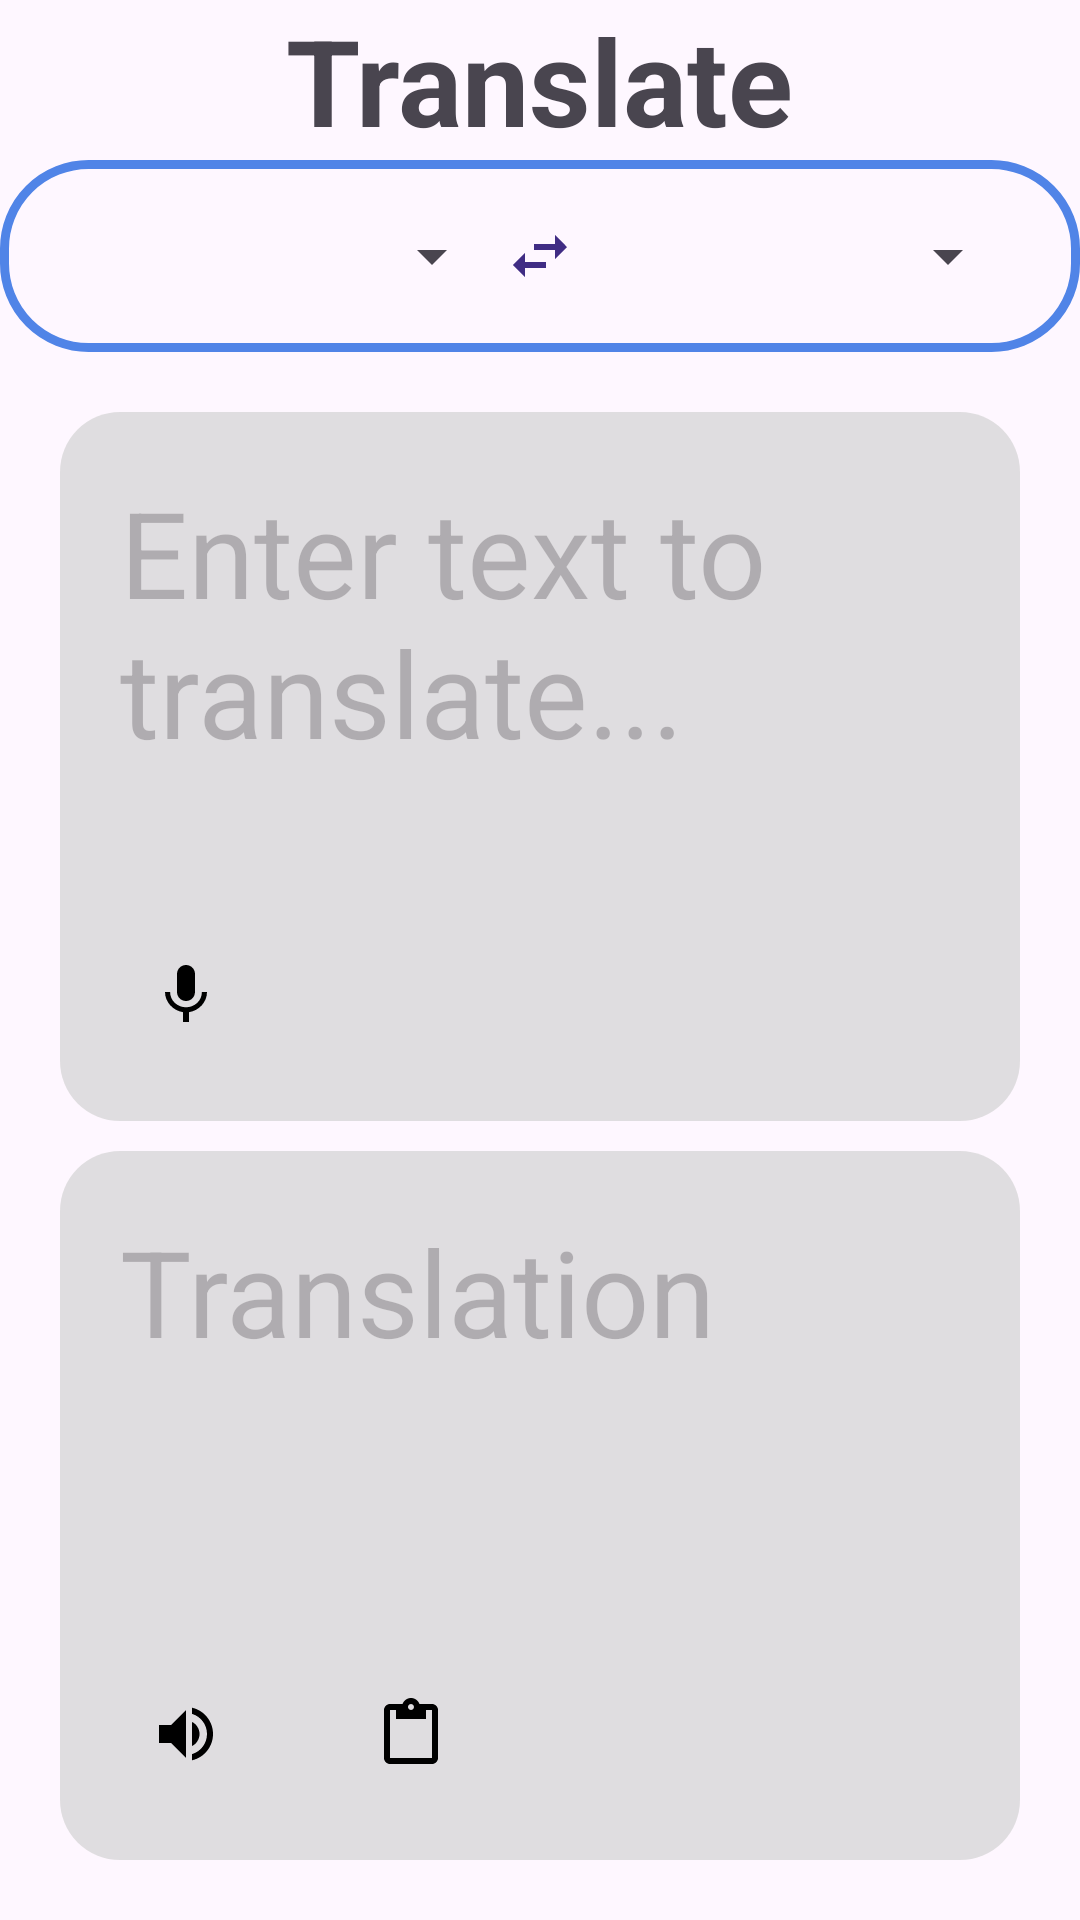

Named icons in this screenshot (1080*1920) and their bounding boxes, bbox=(x1, y1, x2, y2):
mic: bbox=(165, 965, 207, 1022)
paste: bbox=(384, 1698, 438, 1764)
speak: bbox=(159, 1707, 213, 1761)
swap: bbox=(513, 235, 567, 277)
